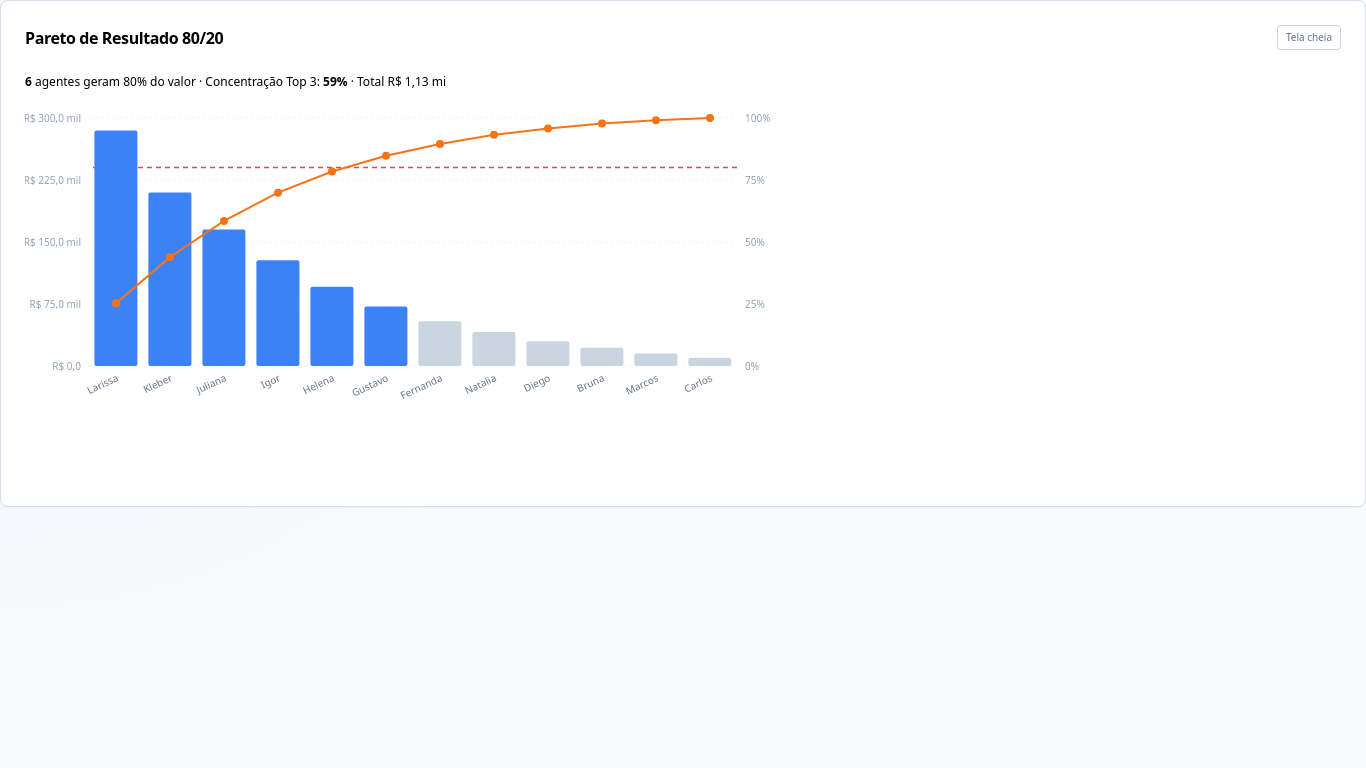
Test: ParetoChart › closes overlay on minimize click
The image size is (1366, 768).
What coordinates should you click on to do the following:
click the button with test id "pareto-maximize"
I would click on:
 (1309, 38)
Its box is [1277,25,1341,50].
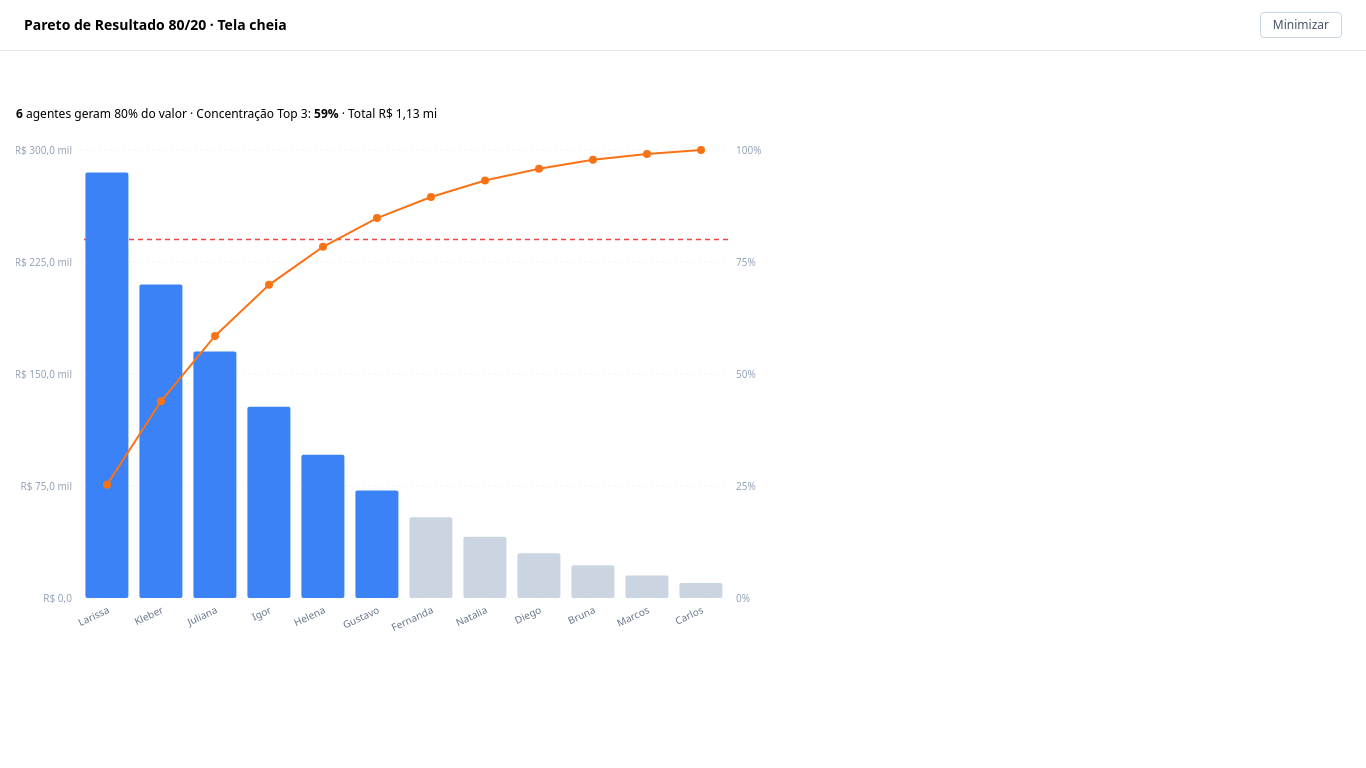
Expected: the element with test id "pareto-overlay" is shown
What coordinates should you click on to do the following:
click the button with test id "pareto-minimize"
I would click on:
 (1301, 25)
Its box is [1260,12,1342,38].
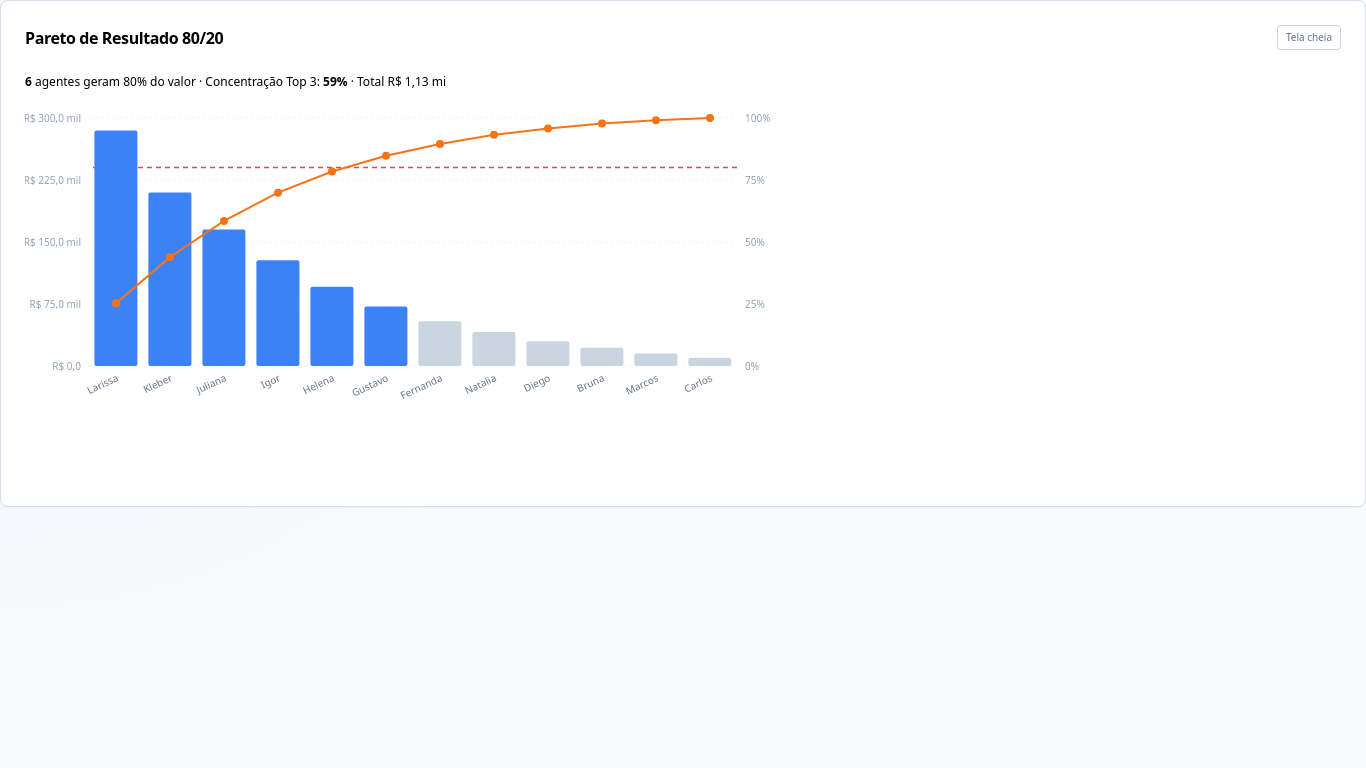
Expected: the element with test id "pareto-overlay" is gone
